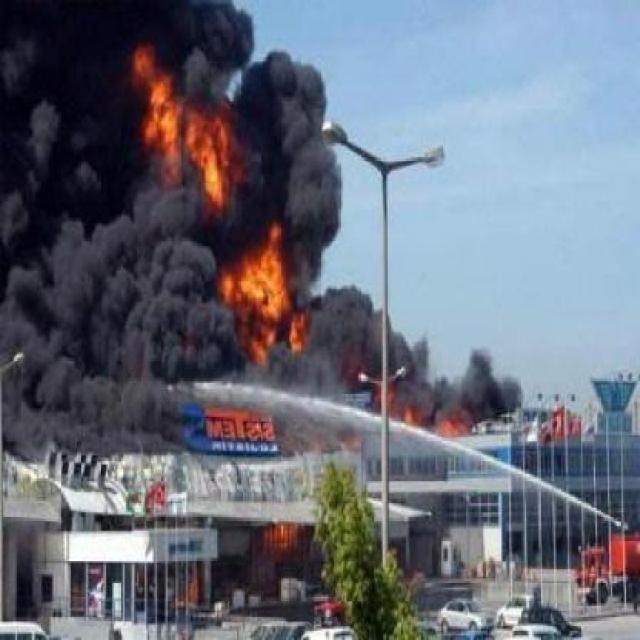Fire: (100, 72, 420, 496)
